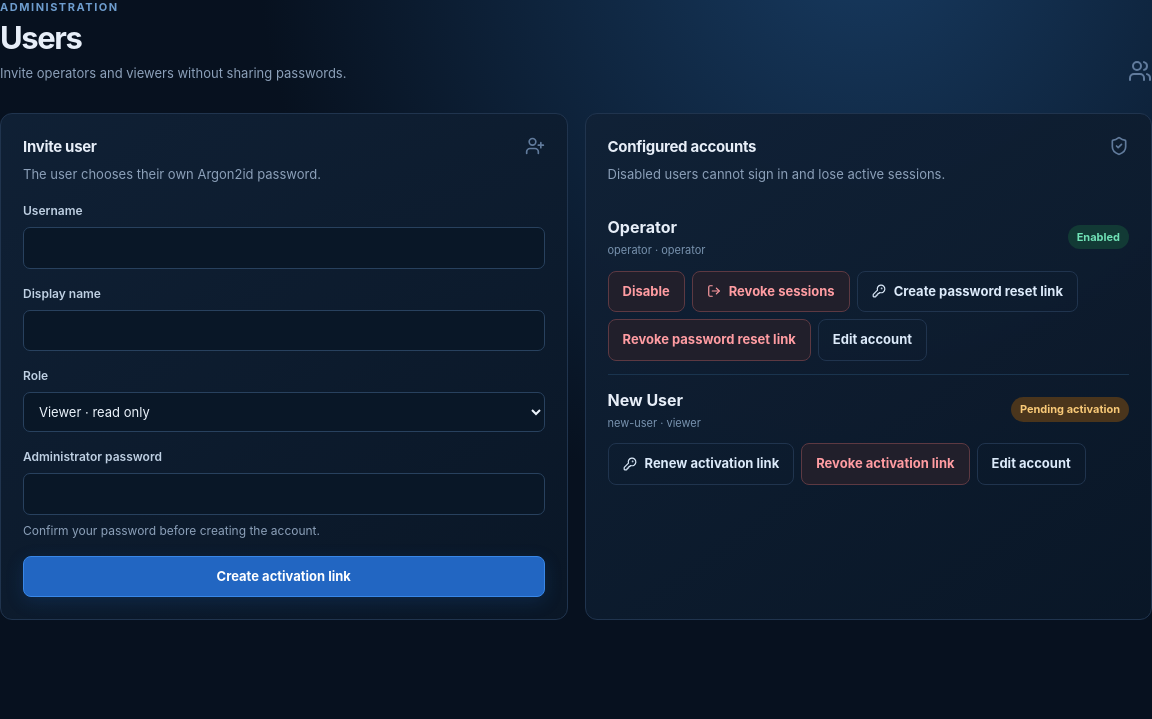
user administration › creates an invitation, exposes the token once, and clears the form
Expected: the text "Operator" is shown, [608,217,677,237]
In the field labelled "Username": (284, 248) [23,227,544,268], type "operator"
In the field labelled "Display name": (284, 330) [23,310,544,351], type "Operator"
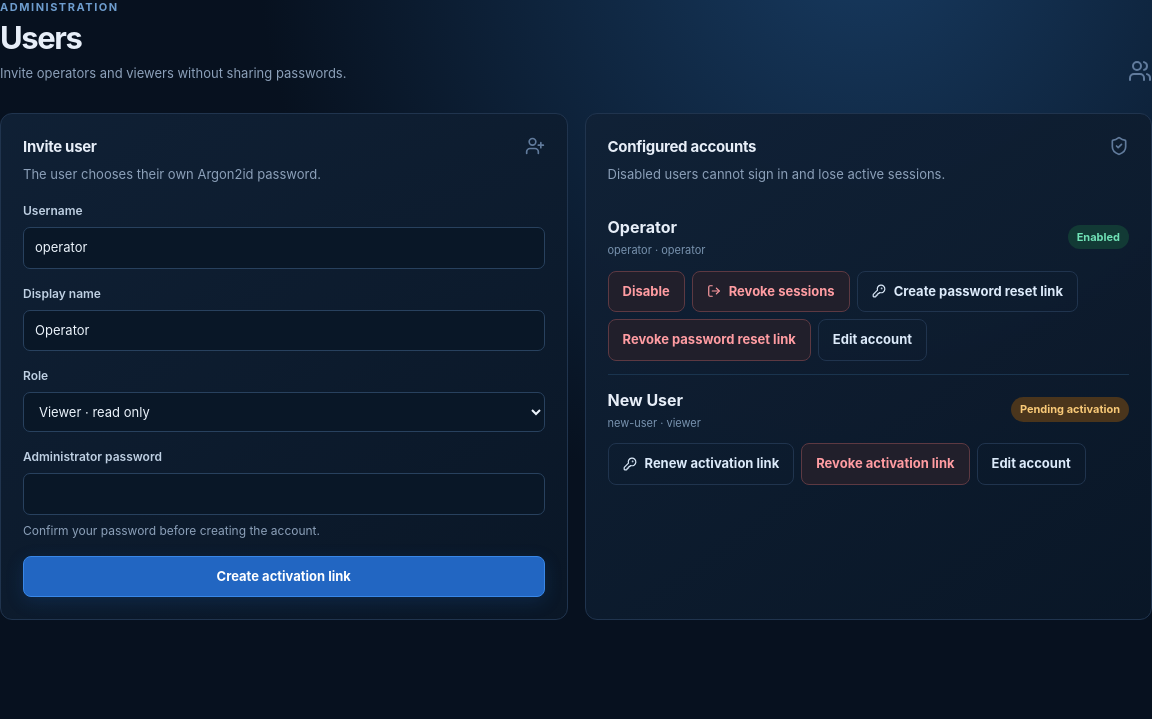
Select "Operator · manage scans" in the dropdown labelled "Role": (284, 412) [23,392,544,432]
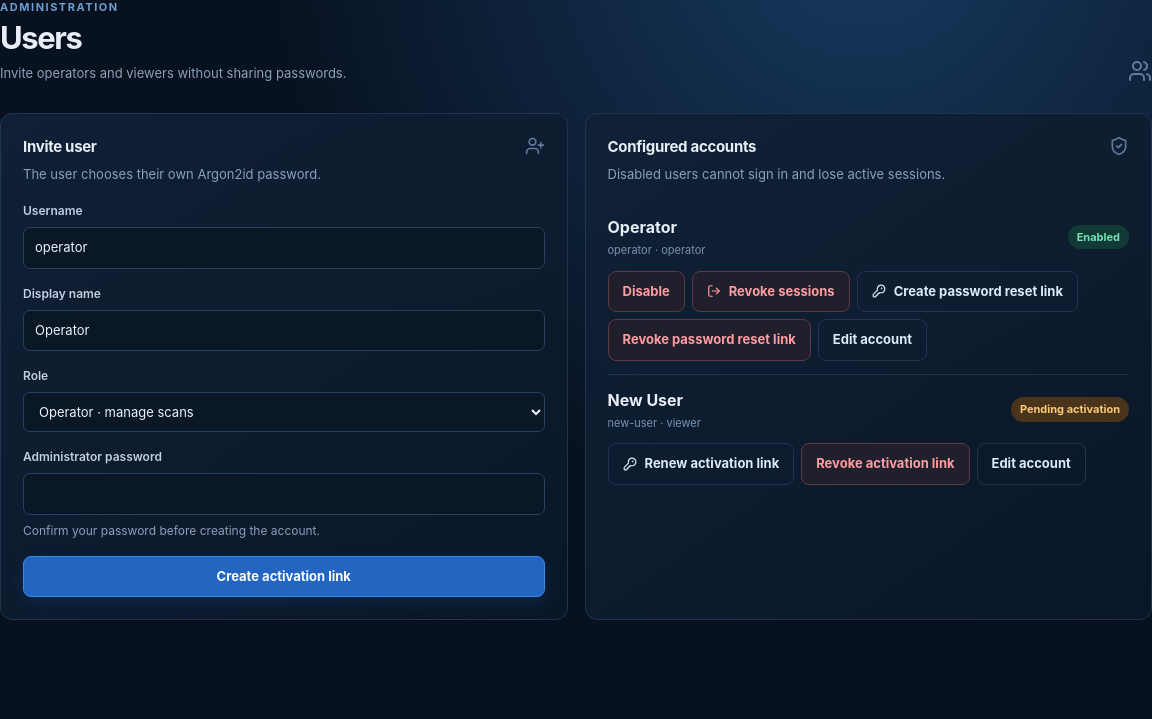
In the password field labelled "Administrator password": (284, 494) [23,473,544,514], type "administrator-password"
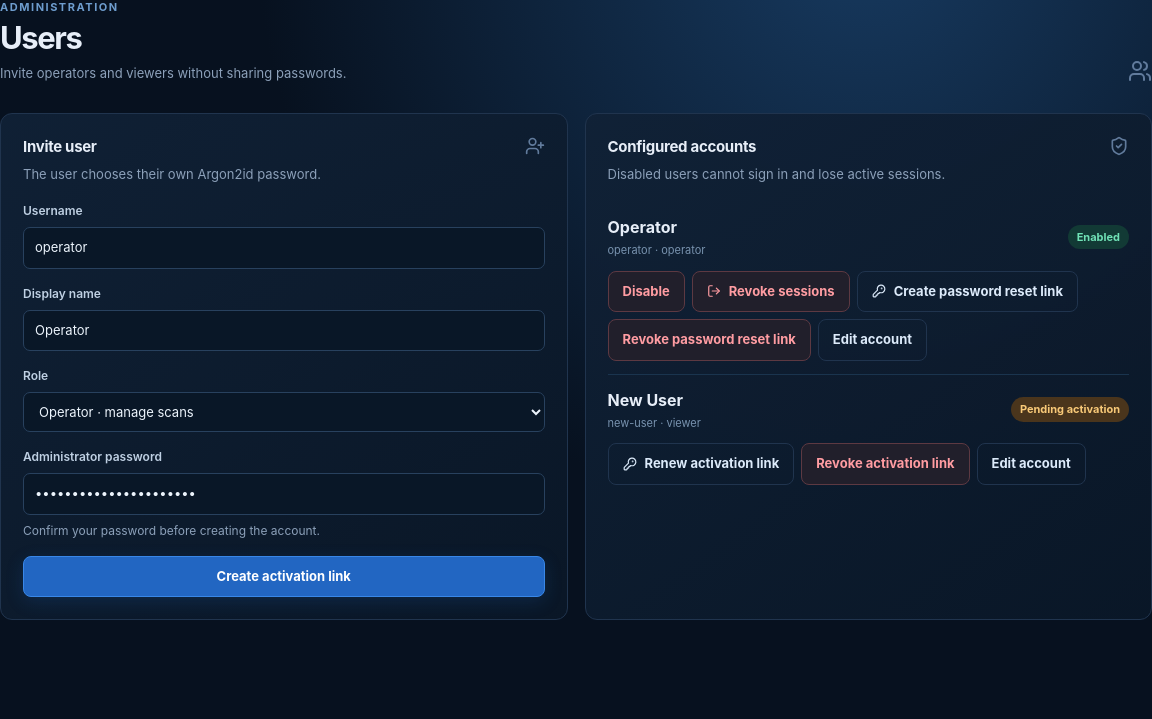
Click the button "Create activation link": (284, 576) [23,556,544,597]
(page scrolled)
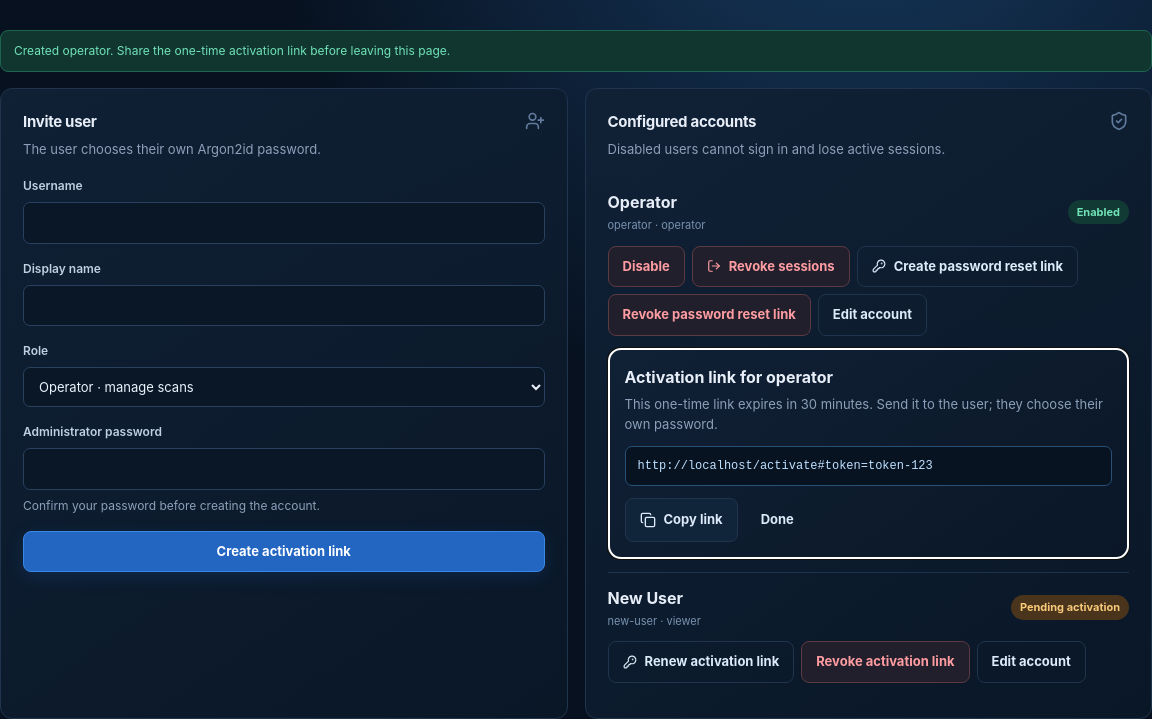
Expected: the text named "Activation link for operator" shows "/activate#token=token-123", [638,459,933,473]
Expected: the text "Created operator. Share the one-time activation link before leaving this page." is shown, [0,30,1151,72]
Click the button "Copy link": (681, 520) [624,498,738,542]
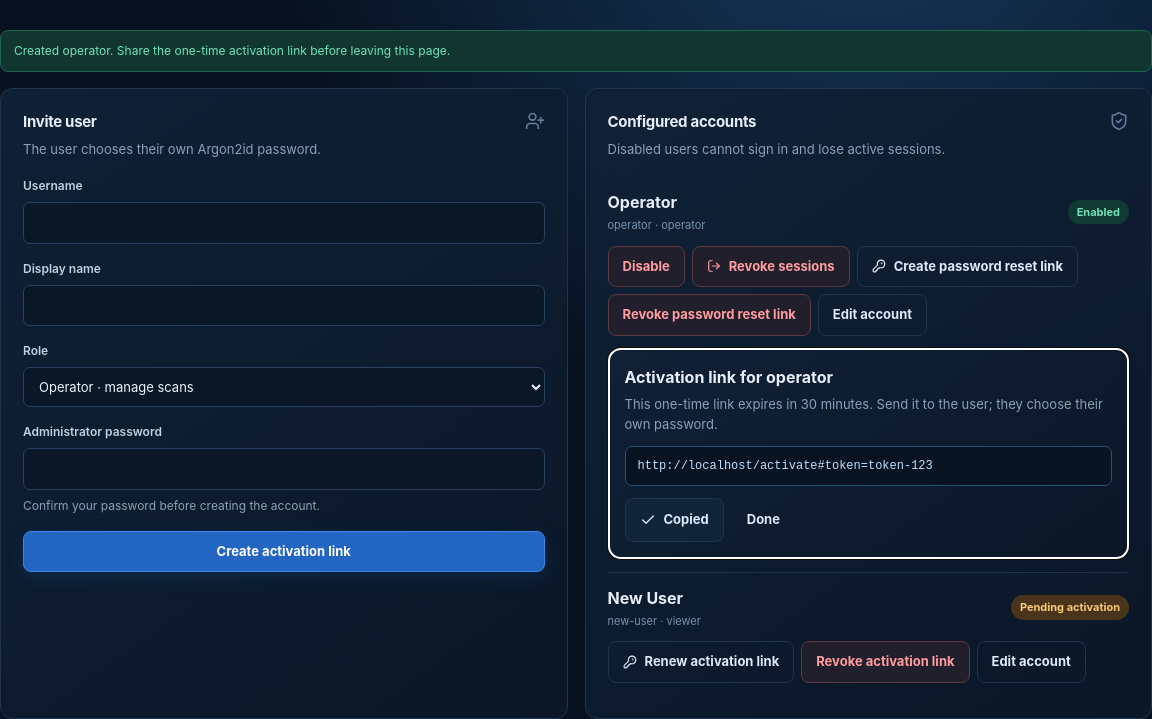
Expected: the button "Copied" is shown, [624,498,724,542]
Click the button "Done": (763, 520) [732,498,795,542]
(page scrolled)
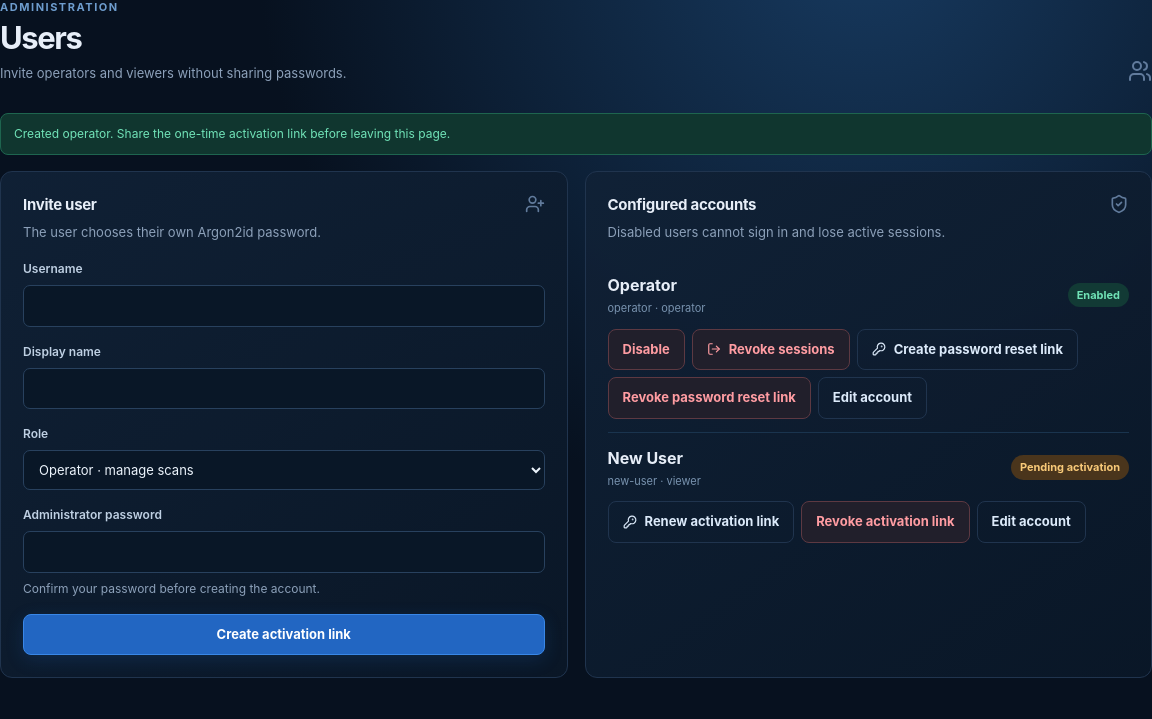
Expected: the text labelled "Activation link for operator" is gone
